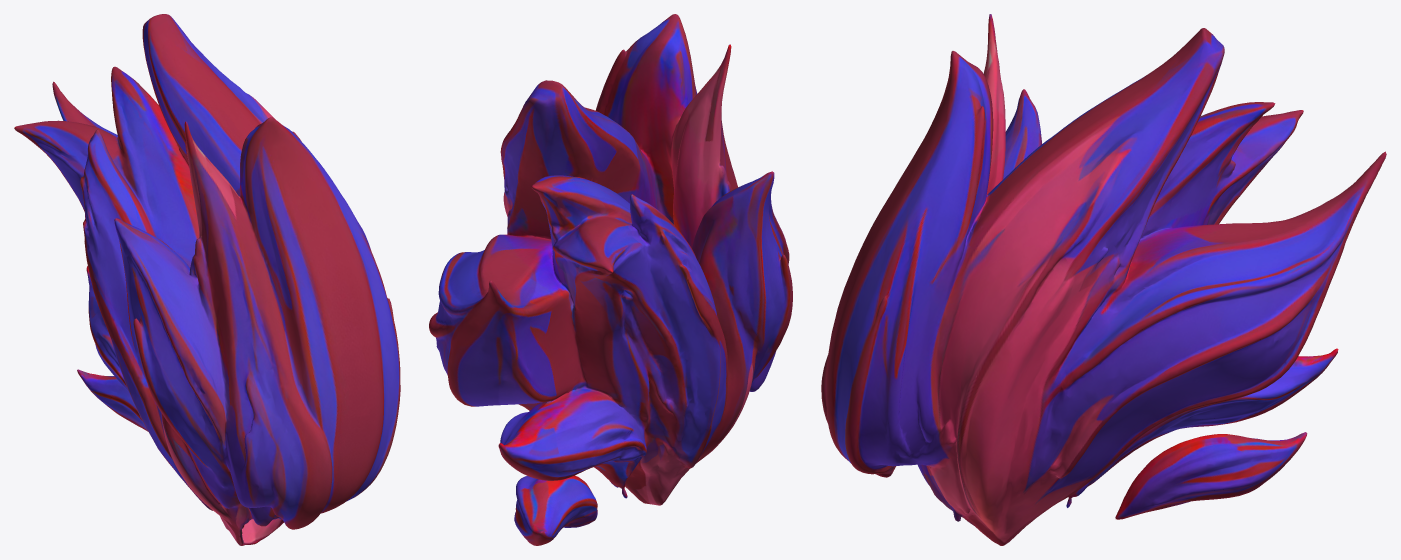
Rendered from E002YamarashiiHair.glb.
The picture shows the model from 3 angles, left to right: view 1: azimuth 30°, elevation 25°; view 2: azimuth 150°, elevation 25°; view 3: azimuth 270°, elevation 25°; orthographic projection. The views are drawn at different scales.
Parts seen in each view (by area): view 1: tripo_node_1d64ff73-76ed-46bb-a03f-a1ef0ecb9074; view 2: tripo_node_1d64ff73-76ed-46bb-a03f-a1ef0ecb9074; view 3: tripo_node_1d64ff73-76ed-46bb-a03f-a1ef0ecb9074.
Boxes of the visible parts, x1=… form: tripo_node_1d64ff73-76ed-46bb-a03f-a1ef0ecb9074: x1=14, y1=14, x2=400, y2=545; tripo_node_1d64ff73-76ed-46bb-a03f-a1ef0ecb9074: x1=429, y1=14, x2=792, y2=545; tripo_node_1d64ff73-76ed-46bb-a03f-a1ef0ecb9074: x1=821, y1=14, x2=1386, y2=545.
Bounding box in the file's own units: 0.5121 × 0.9383 × 0.9367.
Materials: 1 (1 with a texture image).
